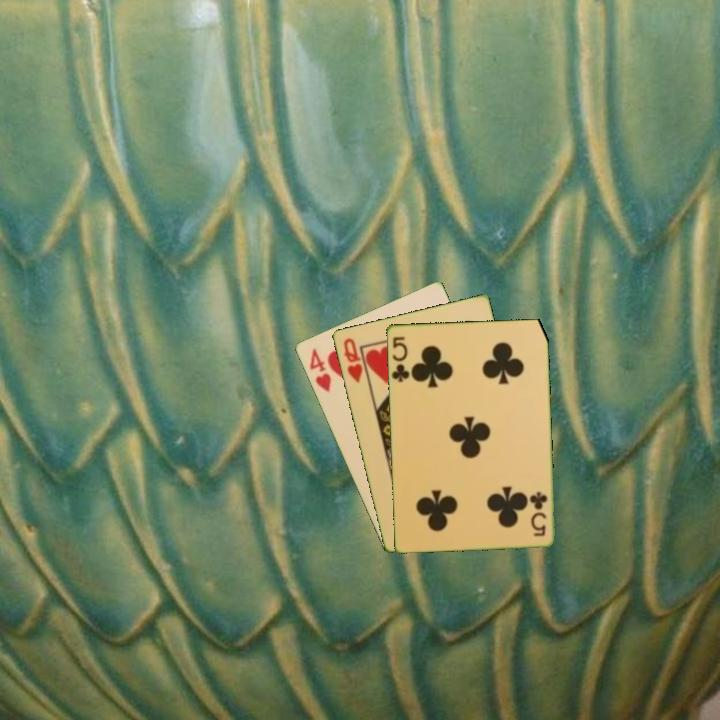4h: (305, 345, 334, 395)
5c: (388, 333, 412, 384), (527, 488, 550, 539)
Qh: (340, 334, 365, 385)
